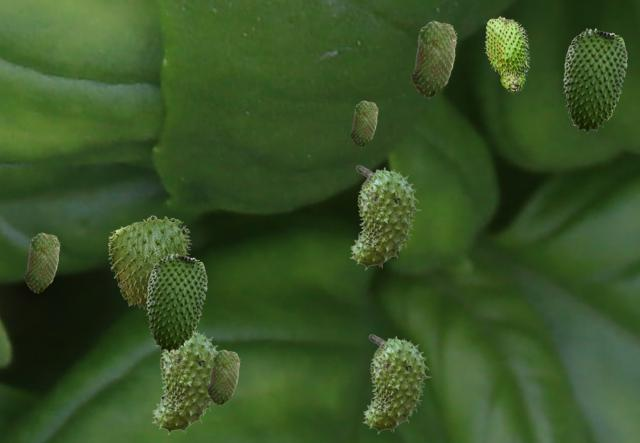guyabano: (108, 215, 191, 310), (349, 165, 420, 269), (151, 329, 218, 434), (362, 334, 430, 433), (563, 28, 626, 132), (146, 253, 206, 352), (484, 16, 529, 93), (411, 20, 456, 97), (24, 232, 59, 292), (207, 349, 239, 404), (350, 100, 377, 146)
